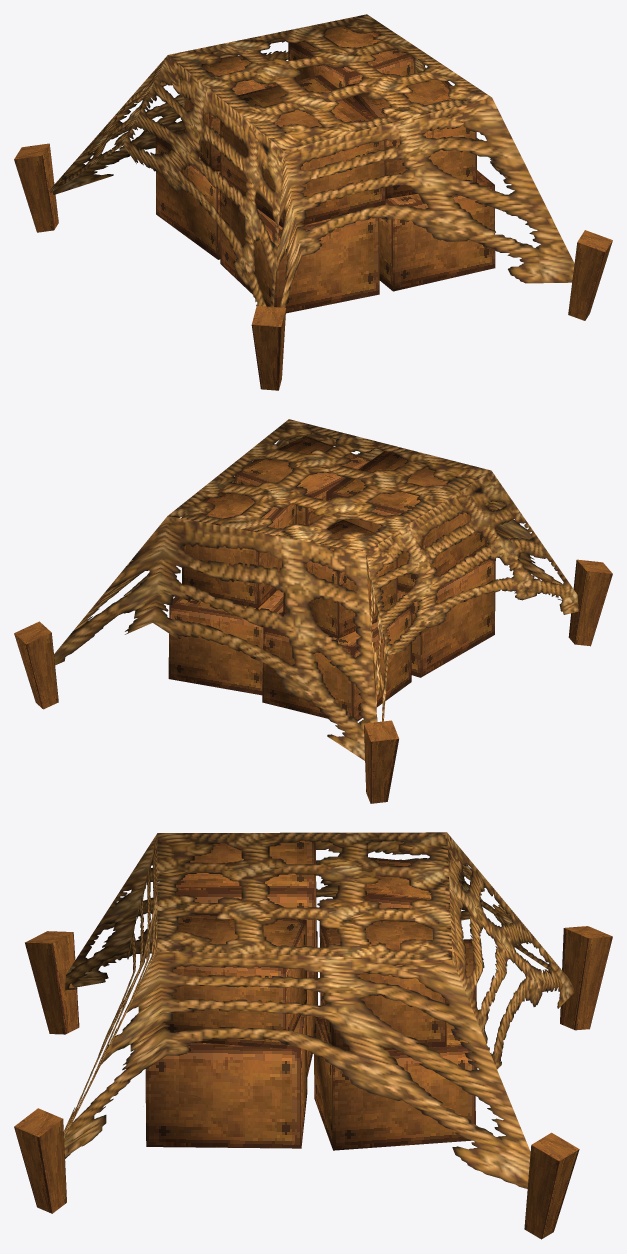
The model's file is deadminecargonetboxes.obj.
The picture shows the model from 3 angles, top to bottom: view 1: azimuth 30°, elevation 25°; view 2: azimuth 150°, elevation 25°; view 3: azimuth 270°, elevation 25°; orthographic projection. The views are drawn at different scales.
Visible parts, largest first — view 1: Geoset1, Geoset0; view 2: Geoset1, Geoset0; view 3: Geoset1, Geoset0.
Part boxes in pixels (x1,y1,x2,y2): Geoset1: [50, 14, 574, 307]; Geoset0: [14, 26, 612, 390]; Geoset1: [54, 419, 578, 760]; Geoset0: [14, 436, 612, 803]; Geoset1: [63, 832, 574, 1188]; Geoset0: [14, 840, 612, 1239].
Bounding box in the file's own units: 3.74 × 1.74 × 4.02.
Materials: 2 (2 with a texture image).
